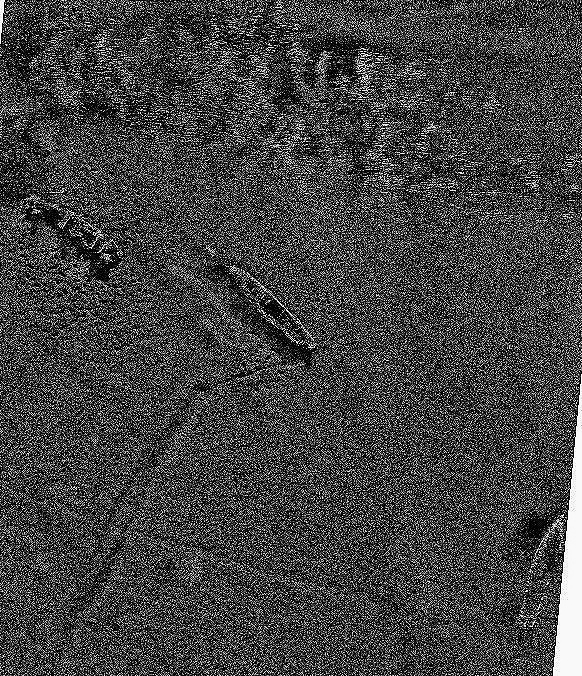ship: (219, 261, 318, 353), (21, 191, 126, 269), (511, 510, 567, 631)
